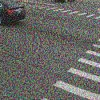crosswalk: (42, 36, 99, 100), (47, 5, 100, 20)
